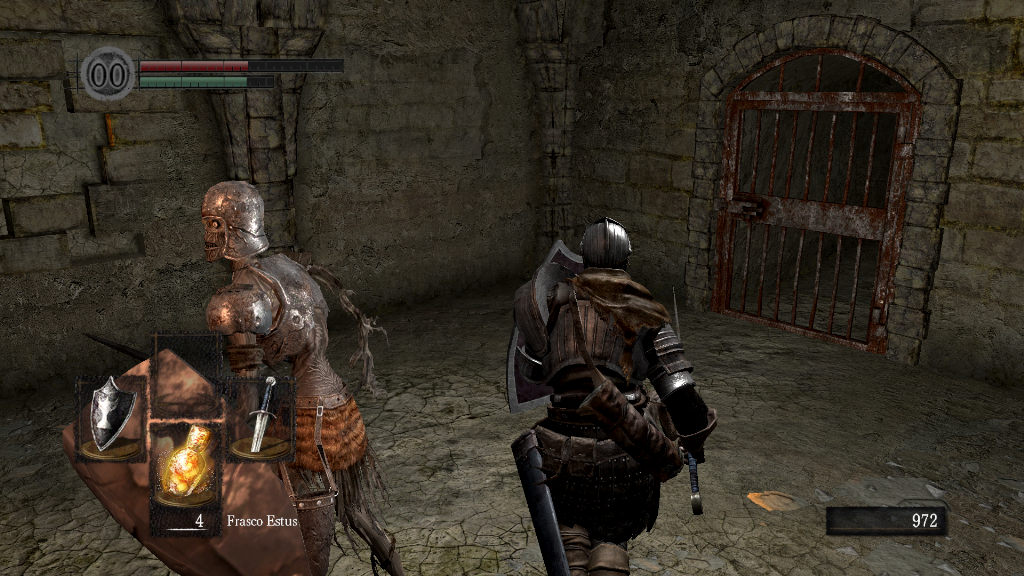health: (138, 58, 343, 71)
humanity: (80, 45, 136, 102)
player: (503, 217, 718, 576)
souls: (825, 506, 945, 536)
stamina: (138, 74, 274, 88)
undeadSoldier: (196, 179, 408, 576)
